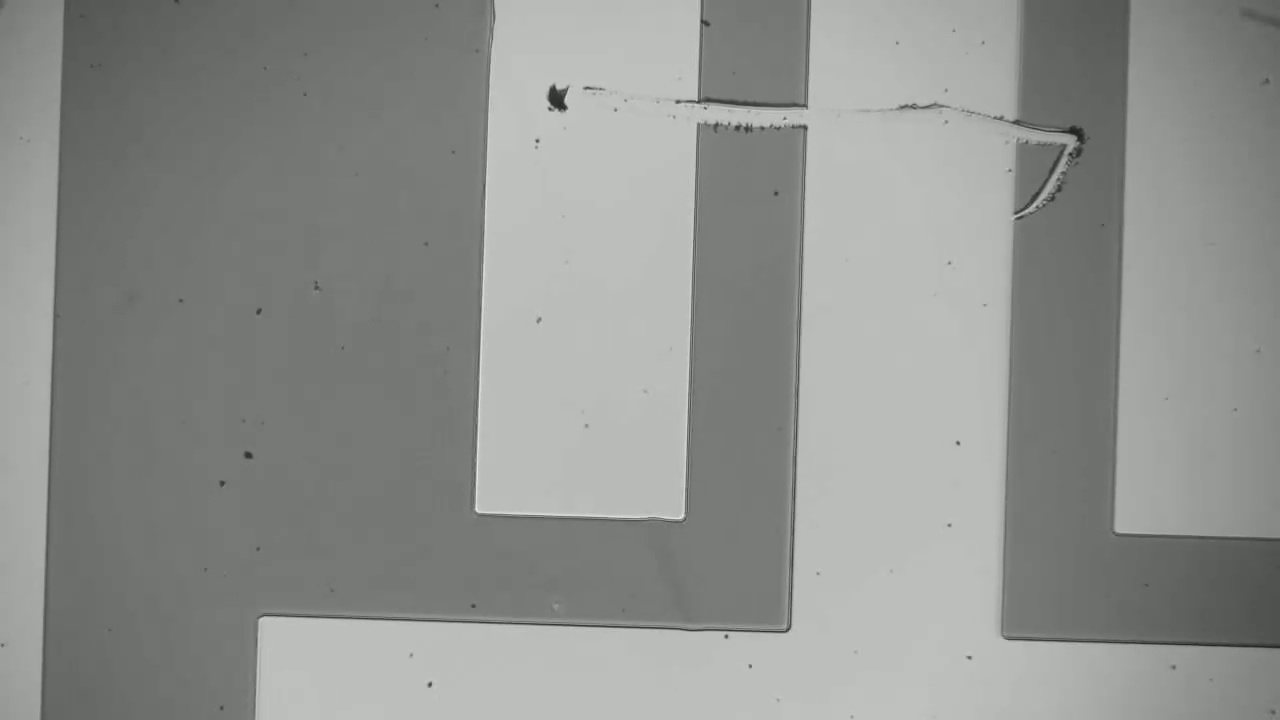Short_circuit: (663, 81, 837, 155), (978, 103, 1148, 172)
